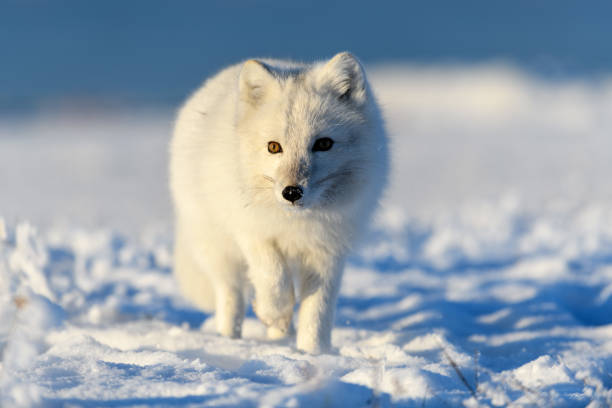arcticfox: (227, 78, 367, 224)
